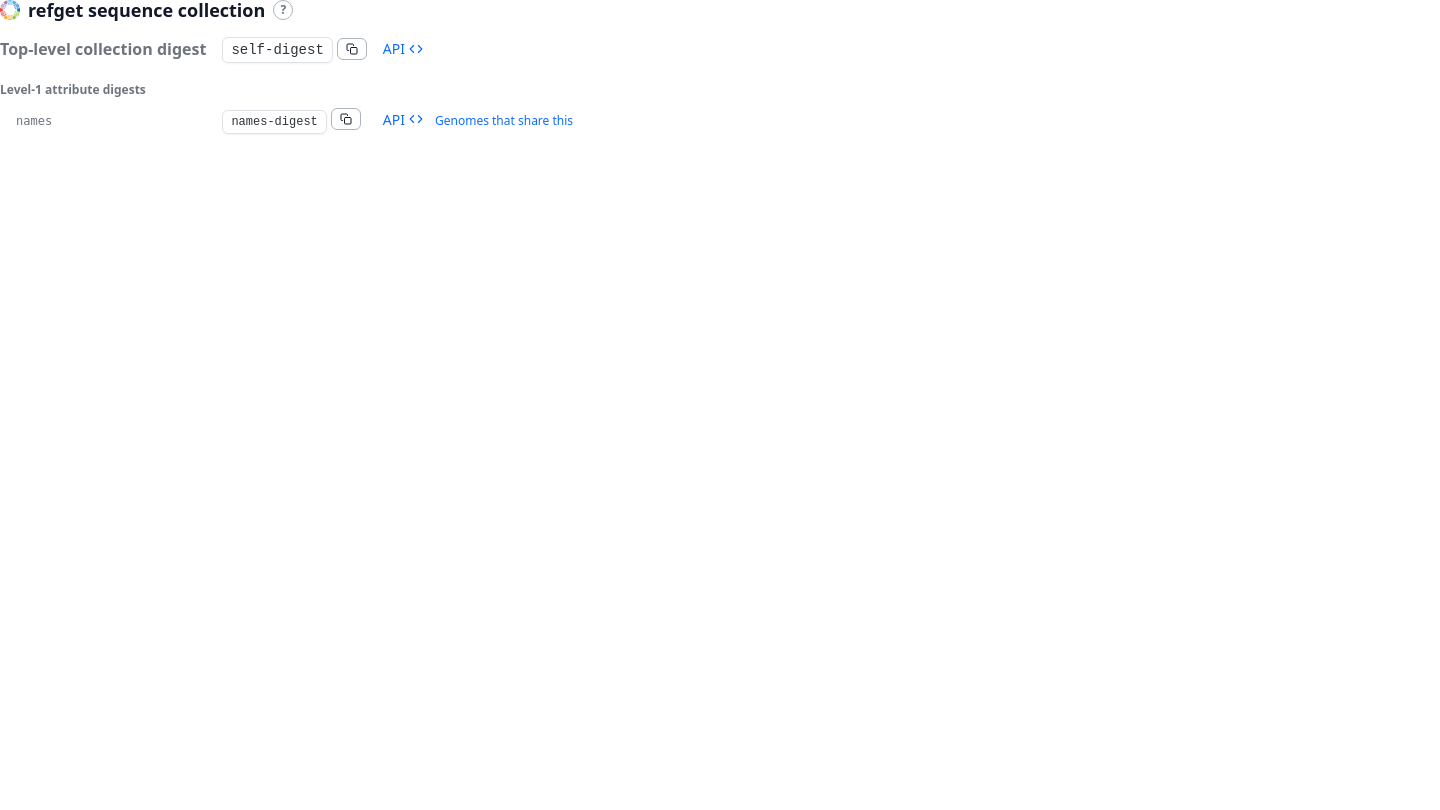
Test: CollectionDigests › opens a modal listing the genomes that share an attribute
The image size is (1440, 810).
Click the button "Genomes that share this": (504, 120) left=435, top=112, right=573, bottom=128
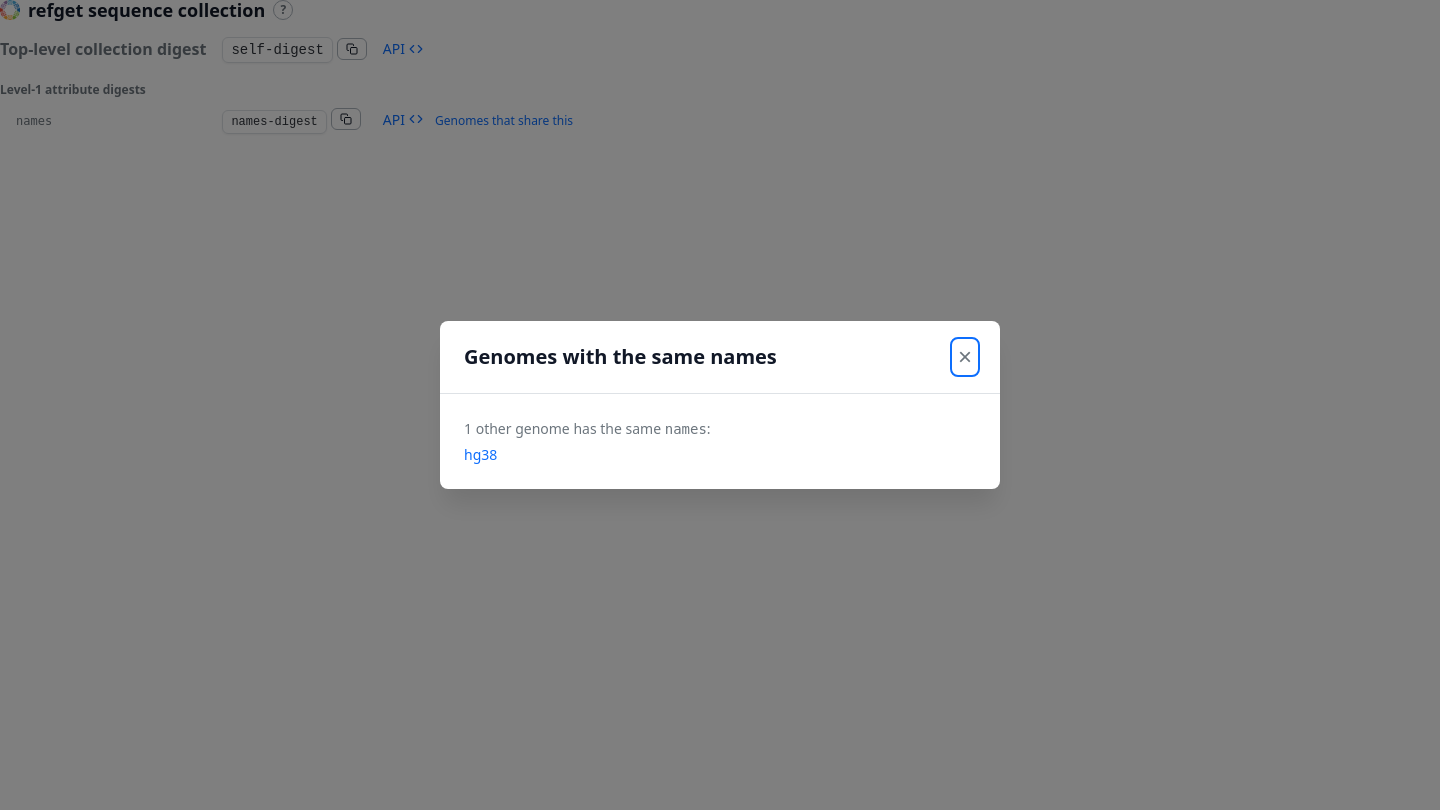
Now the text "1 other genome has the same names:" is shown, box left=464, top=419, right=711, bottom=438
Press Escape
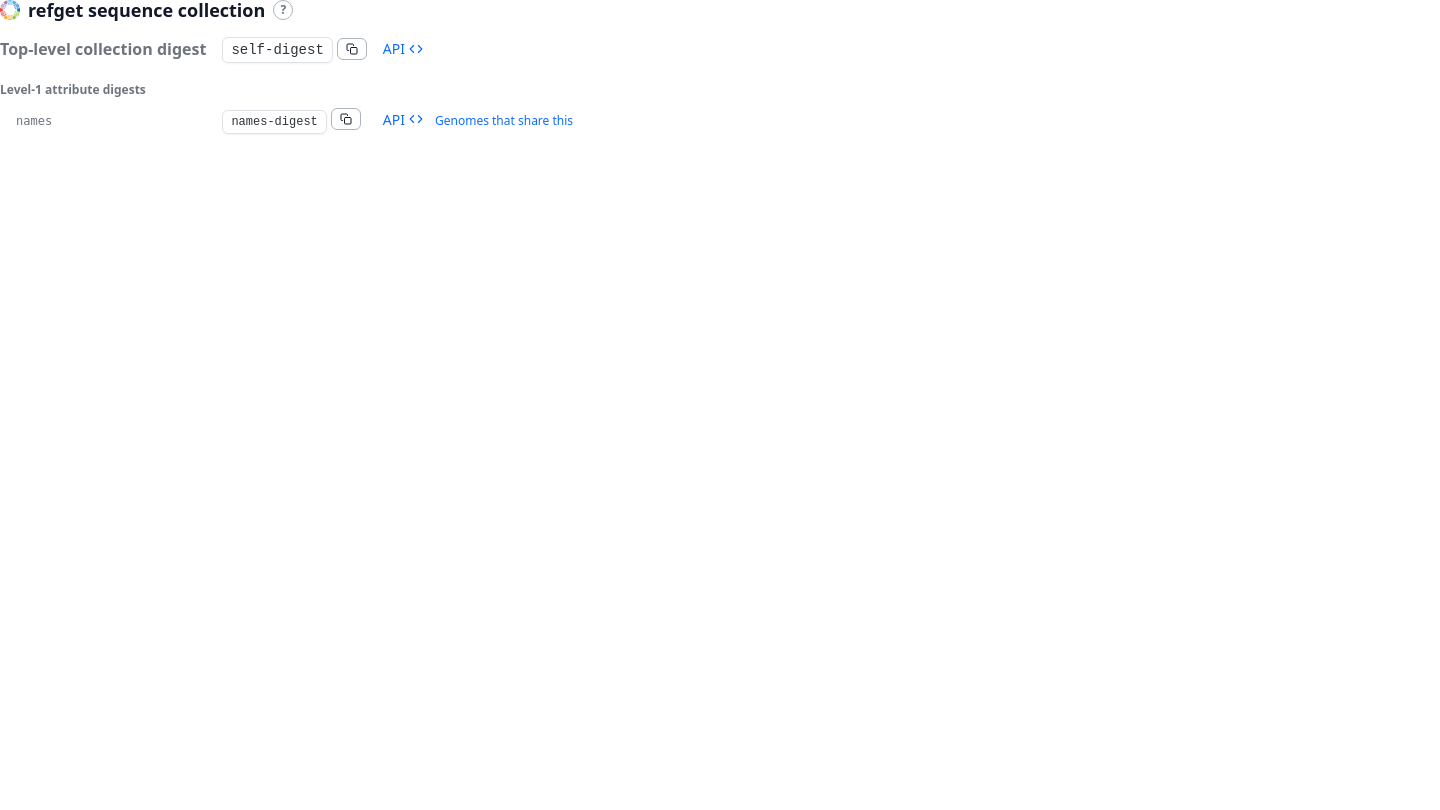
Now the dialog is gone
